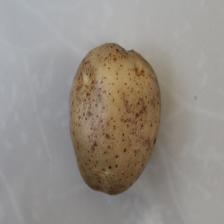Diseased-fungal potato: (67, 39, 161, 195)
